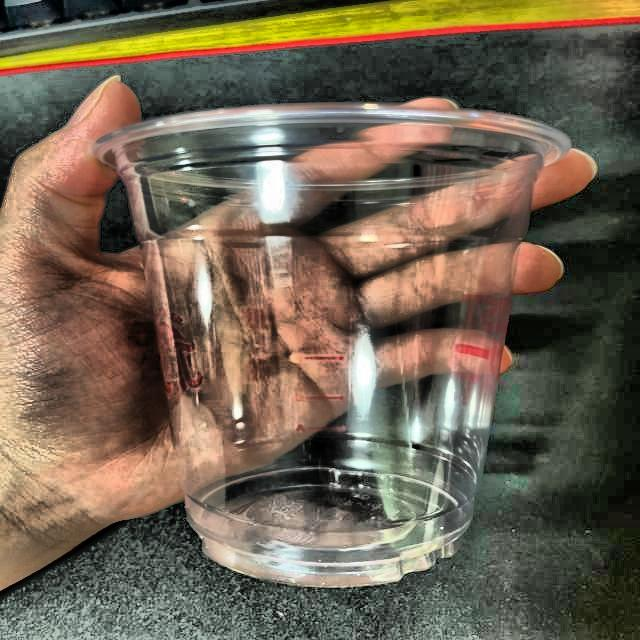plastic cup: (92, 96, 582, 594)
